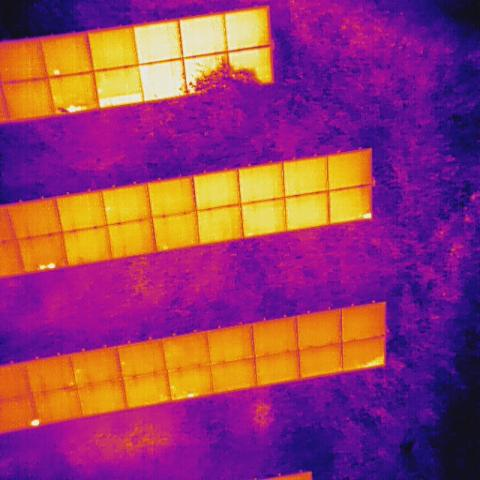fault: (99, 95, 143, 107), (362, 357, 386, 366), (66, 103, 87, 112), (38, 261, 56, 271), (363, 211, 373, 220), (52, 67, 60, 77), (185, 391, 195, 399), (30, 418, 39, 426)
